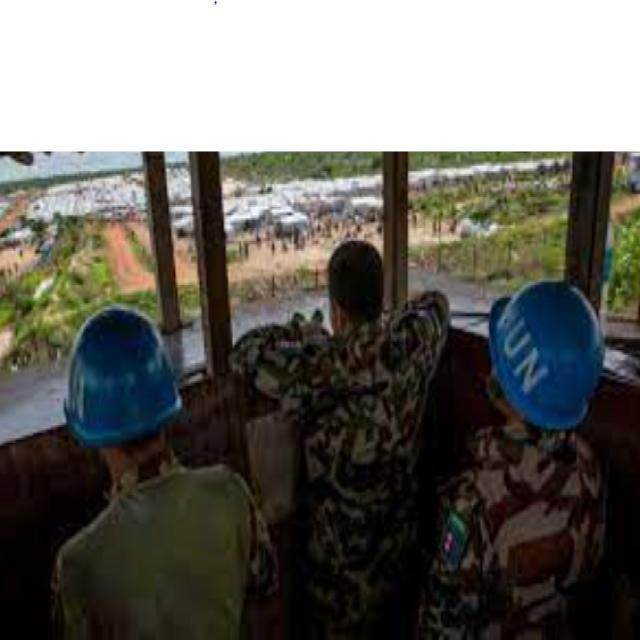helmet: (483, 271, 608, 439), (56, 302, 188, 460)
